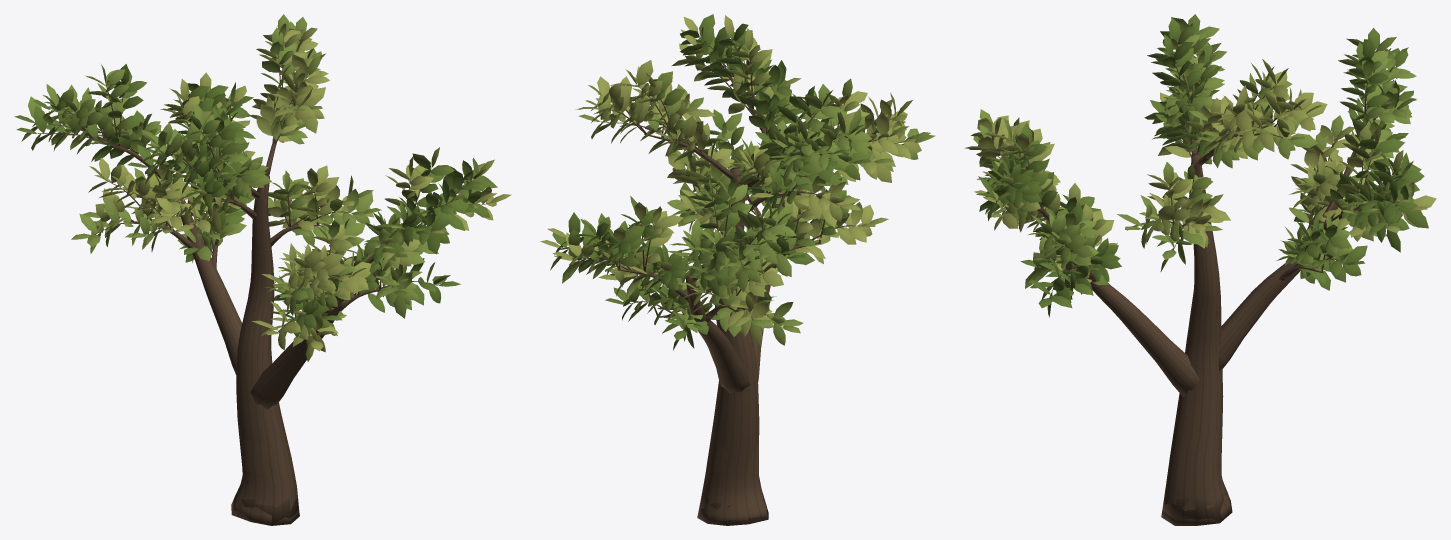
The picture shows the model from 3 angles, left to right: view 1: azimuth 30°, elevation 25°; view 2: azimuth 150°, elevation 25°; view 3: azimuth 270°, elevation 25°; orthographic projection. The views are drawn at different scales.
Visible parts, largest first — view 1: L0_leaves, L1_leaves, L0_wood, L1_wood; view 2: L0_leaves, L1_leaves, L0_wood, L1_wood; view 3: L0_leaves, L1_leaves, L1_wood, L0_wood.
Part boxes in pixels (box(x1,y1,x2,y2)): L0_leaves: box(24, 24, 502, 352); L1_leaves: box(14, 14, 511, 361); L0_wood: box(37, 39, 489, 525); L1_wood: box(57, 64, 462, 525); L0_leaves: box(550, 22, 925, 348); L1_leaves: box(540, 14, 935, 350); L0_wood: box(563, 37, 903, 523); L1_wood: box(600, 47, 896, 525); L0_leaves: box(968, 20, 1424, 317); L1_leaves: box(964, 14, 1436, 308); L1_wood: box(1028, 70, 1395, 522); L0_wood: box(992, 63, 1402, 525).
Size of the model in its own units: 3.39 by 4.77 by 4.25.
2 materials, 1 textured.
